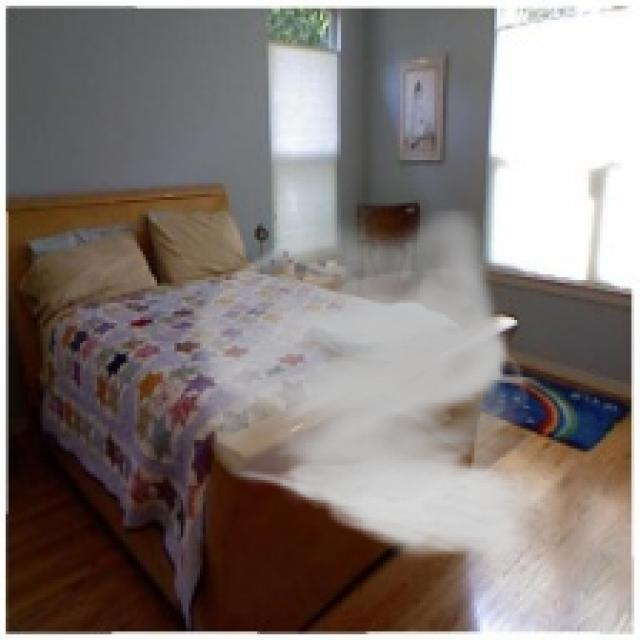smoke: (180, 208, 551, 563)
